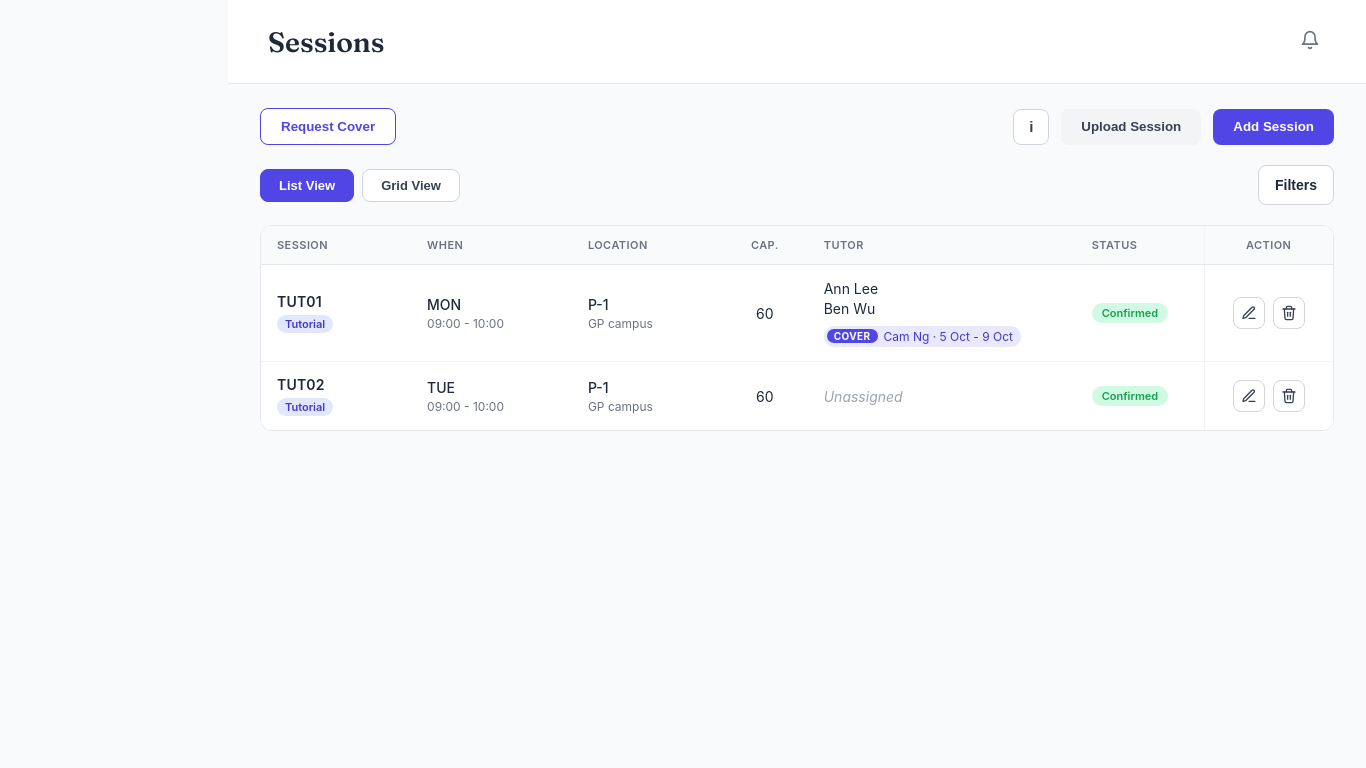
Scenario: BUG-5b changing the type in the edit form updates an automatic code (TUT01 -> WOR01)
The image size is (1366, 768).
Click the button named "Edit session" in the row of "TUT01".
click(1249, 313)  # box [1233,297,1265,329]
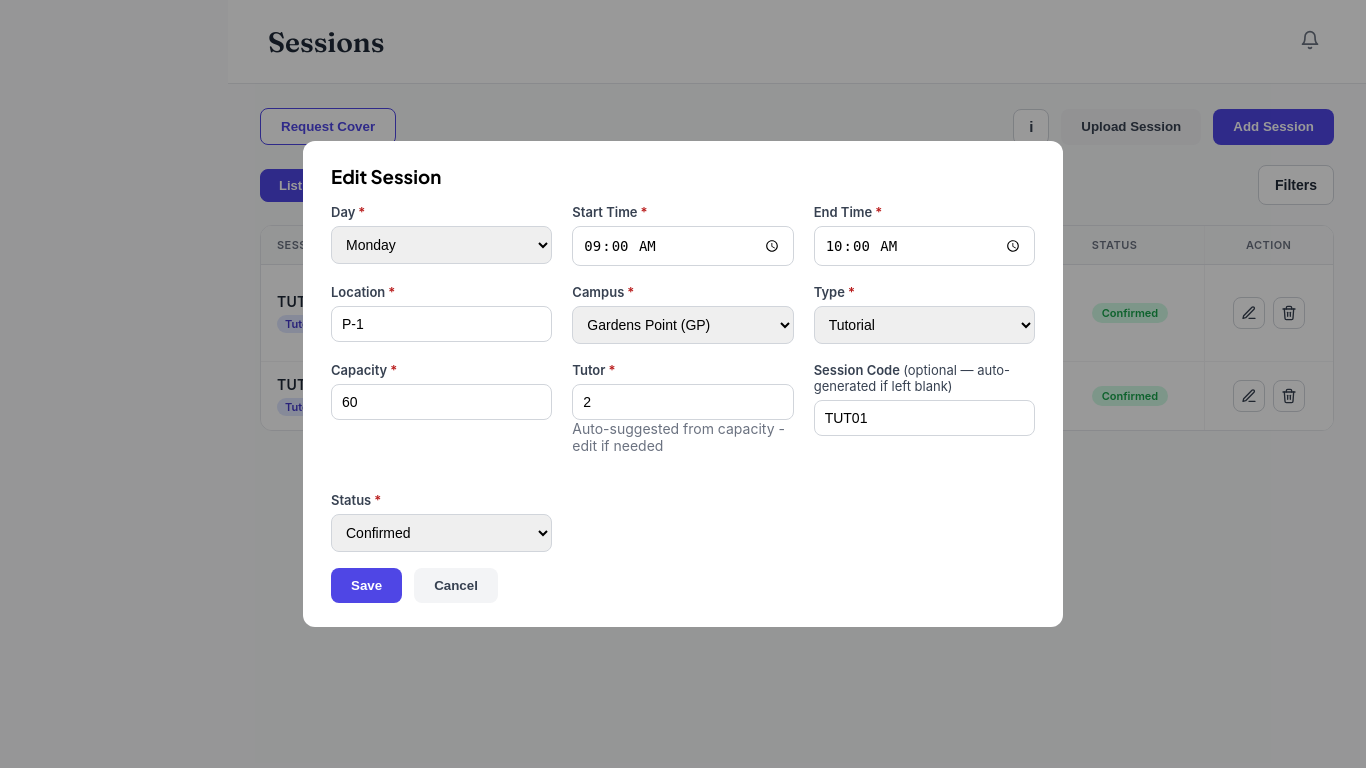
Expected: the field named "sessionCode" below "Session Code" holds "TUT01", [814,400,1035,436]
Select "Workshop" in the dropdown named "sessionType" below "Type" at (924, 325), box [814,306,1035,344]
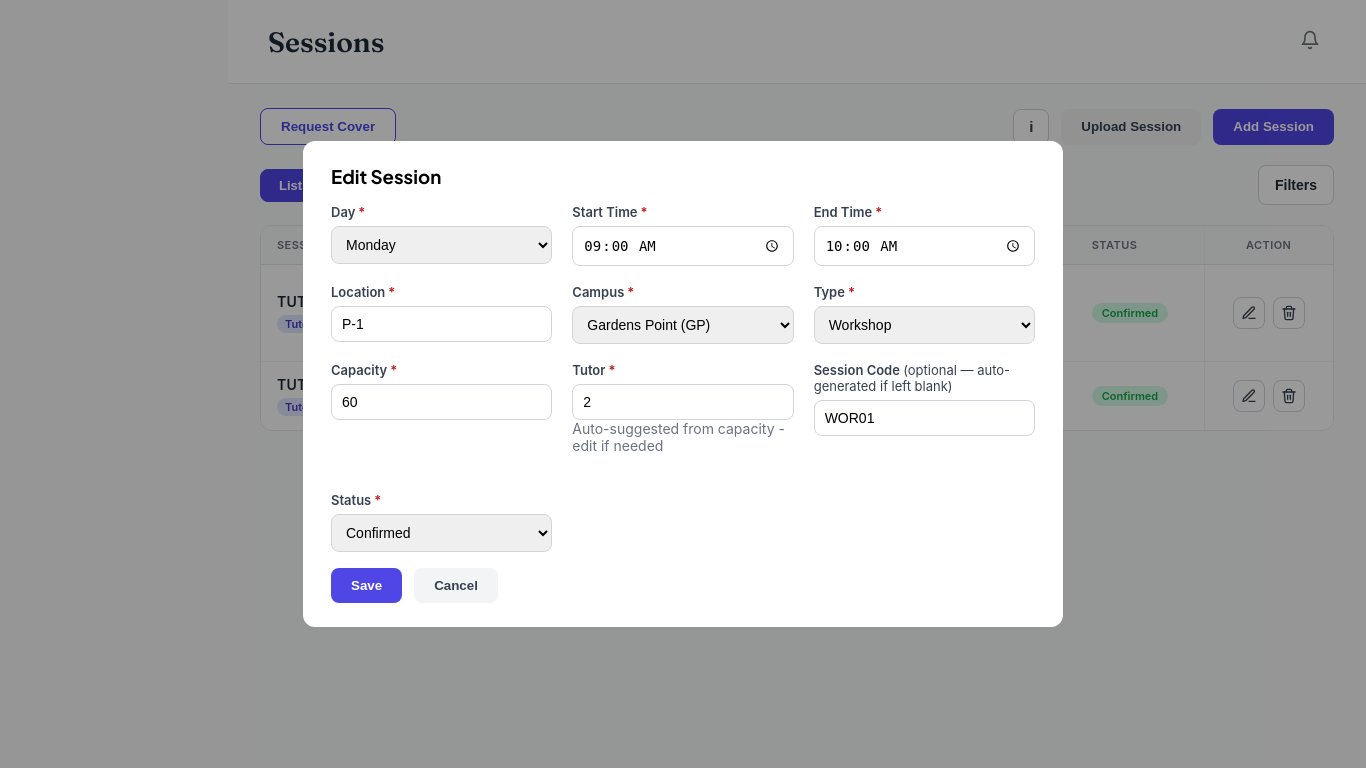
Expected: the field named "sessionCode" below "Session Code" holds "WOR01", [814,400,1035,436]
